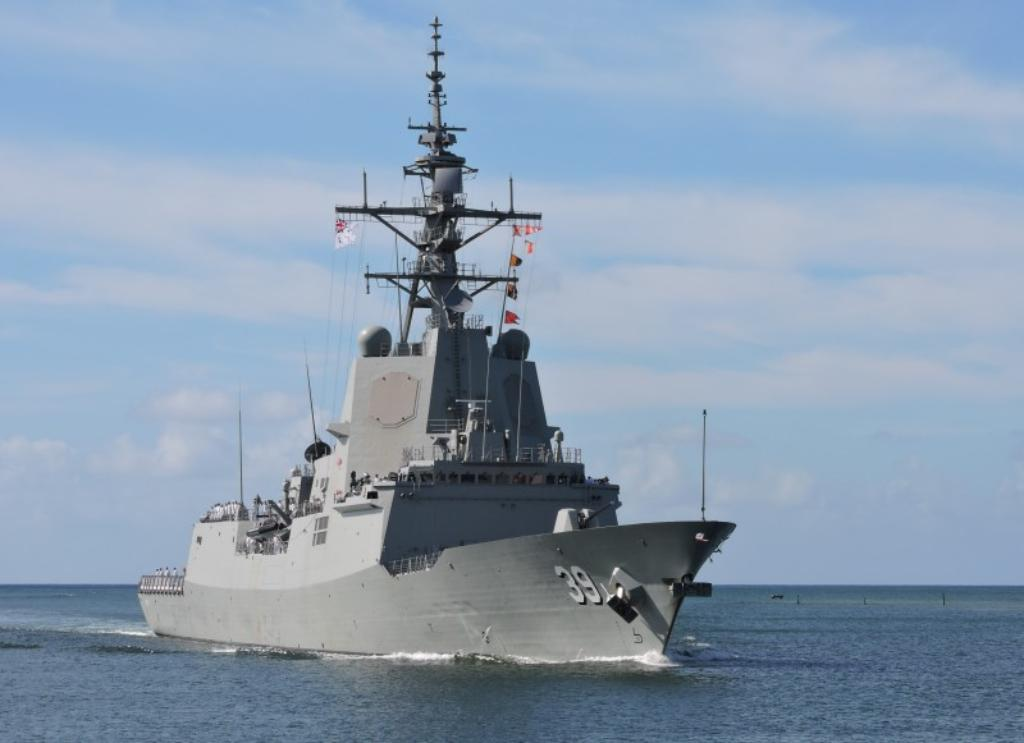Warship: (140, 9, 738, 672)
